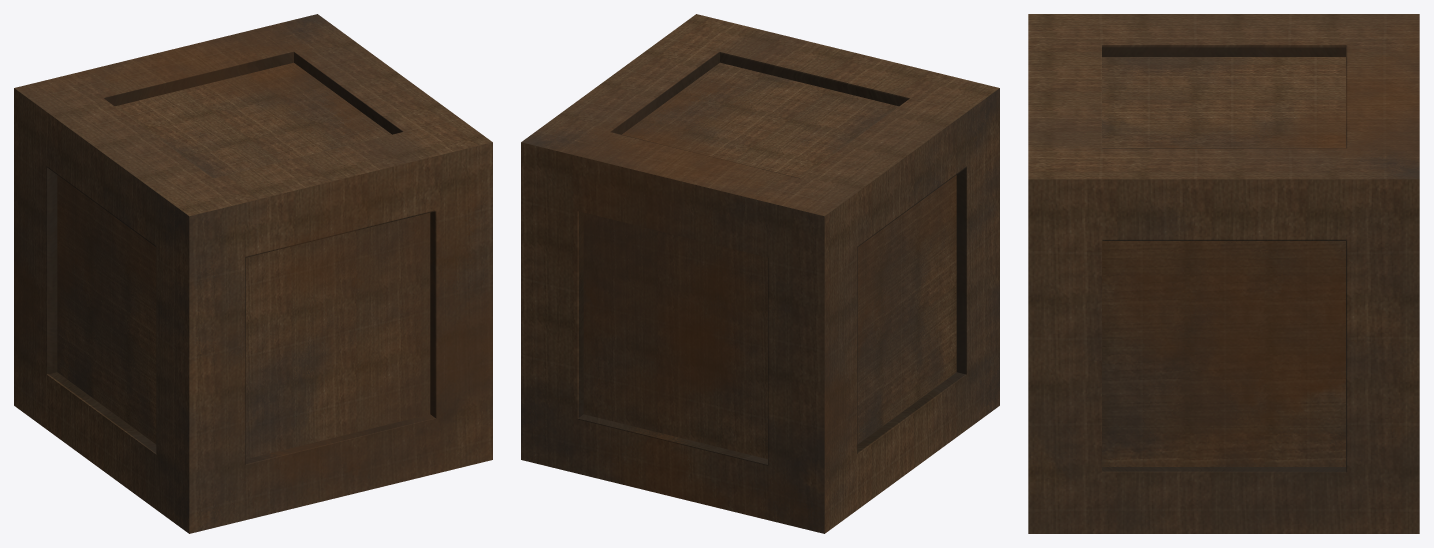
The model's file is crate.fbx.
3 views of the same model, side by side, from view 1: azimuth 30°, elevation 25°; view 2: azimuth 150°, elevation 25°; view 3: azimuth 270°, elevation 25° (orthographic). The views are drawn at different scales.
Parts seen in each view (by area): view 1: crate_UV:crate; view 2: crate_UV:crate; view 3: crate_UV:crate.
Boxes of the visible parts, <box> form: crate_UV:crate: <box>14,14,492,533</box>; crate_UV:crate: <box>521,14,999,533</box>; crate_UV:crate: <box>1028,14,1419,533</box>.
Bounding box in the file's own units: 7.63 × 7.63 × 7.63.
1 material, 1 textured.
